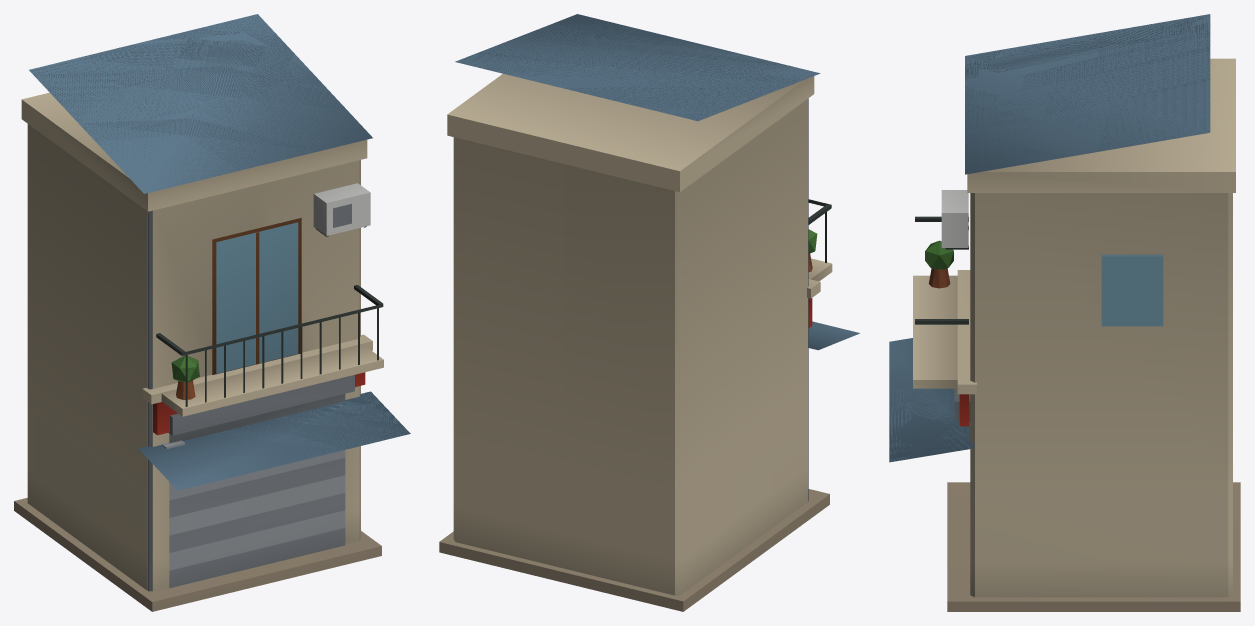
File: nha-pho-a.glb
The picture shows the model from 3 angles, left to right: view 1: azimuth 30°, elevation 25°; view 2: azimuth 150°, elevation 25°; view 3: azimuth 270°, elevation 25°; orthographic projection. The views are drawn at different scales.
Visible parts, largest first — view 1: nha-pho-a; view 2: nha-pho-a; view 3: nha-pho-a.
Boxes of the visible parts, x1=… form: nha-pho-a: x1=14, y1=14, x2=410, y2=611; nha-pho-a: x1=439, y1=14, x2=859, y2=611; nha-pho-a: x1=889, y1=14, x2=1240, y2=611.
Size of the model in its own units: 3.7 by 6.85 by 4.55.
